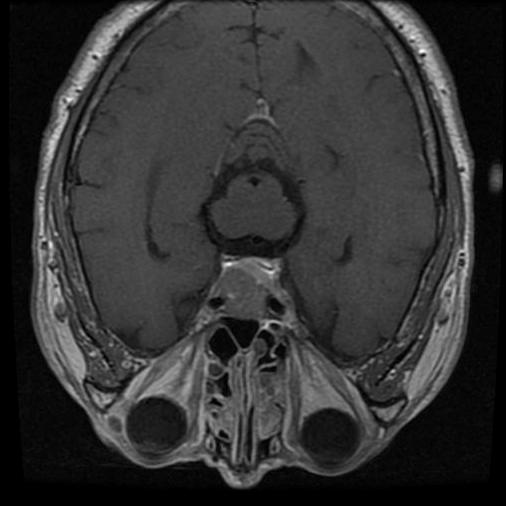Tumour-Pituitary: (197, 254, 307, 324)
